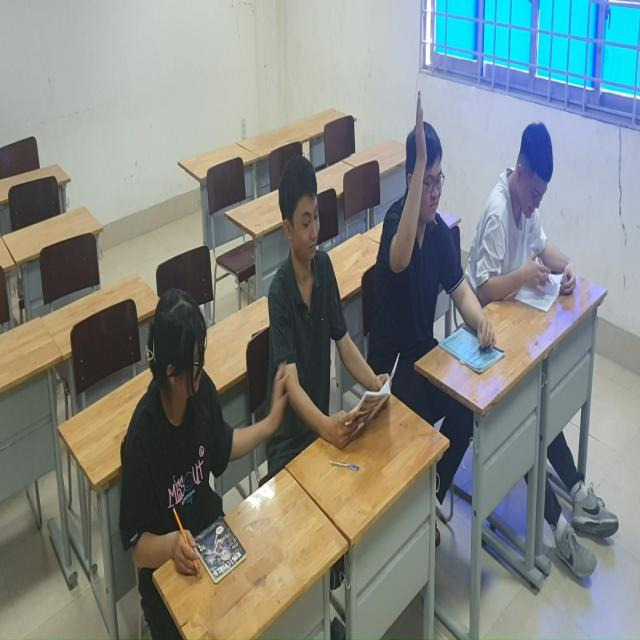read: (252, 162, 397, 483), (116, 273, 252, 594), (472, 115, 582, 314)
